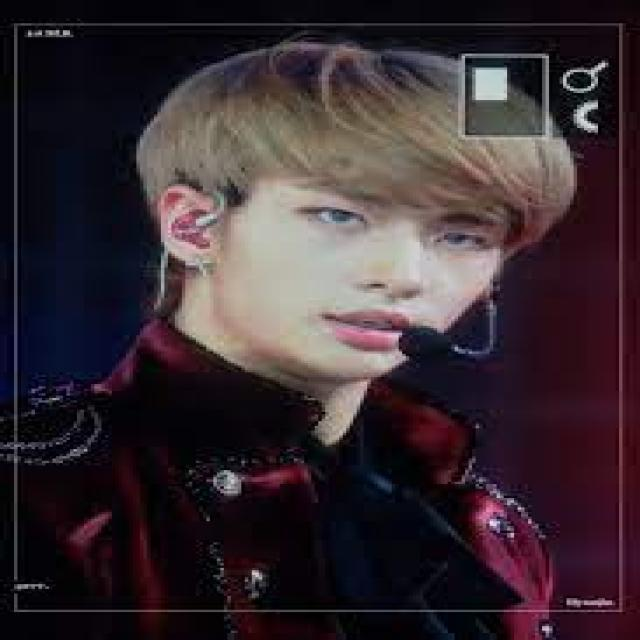earphone: (164, 200, 220, 254)
